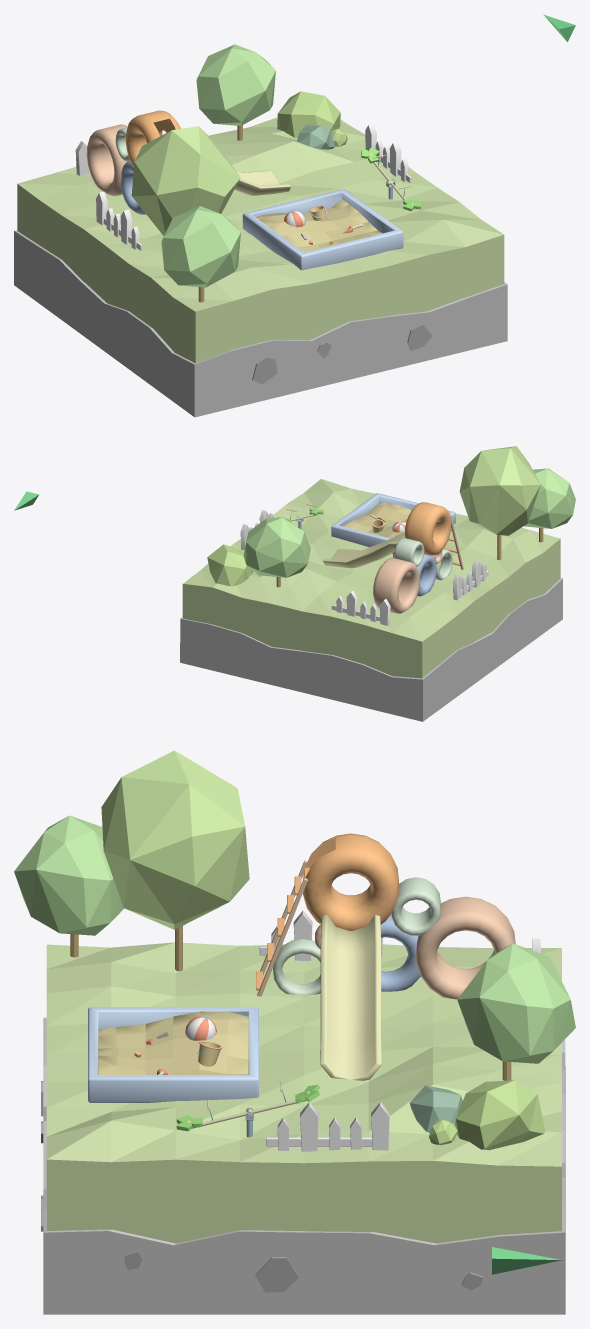
3 views of the same model, one above another, from view 1: azimuth 30°, elevation 25°; view 2: azimuth 150°, elevation 25°; view 3: azimuth 270°, elevation 25° (orthographic). The views are drawn at different scales.
Visible parts, largest first — view 1: Sand_1, Rock_1_0, object 7, object 11, object 9, object 6, object 13, object 17, object 8, object 16, object 12, Rock_2 (+1 smaller); view 2: Sand_1, Rock_1_0, object 11, object 7, object 13, object 6, object 9, object 8, object 17, object 15, object 16; view 3: Sand_1, Rock_1_0, object 11, object 7, object 13, object 6, object 9, object 17, object 8, object 12, Rock_2, object 10 (+2 smaller).
Boxes of the visible parts, <box> form: Sand_1: <box>17,117,504,363</box>; Rock_1_0: <box>14,230,507,417</box>; object 7: <box>131,126,240,235</box>; object 11: <box>86,110,290,214</box>; object 9: <box>242,189,403,270</box>; object 6: <box>161,206,240,302</box>; object 13: <box>196,44,275,140</box>; object 17: <box>256,199,382,252</box>; object 8: <box>277,91,347,149</box>; object 16: <box>96,191,142,250</box>; object 12: <box>365,123,411,182</box>; Rock_2: <box>252,324,432,384</box>; Sand_1: <box>182,479,560,678</box>; Rock_1_0: <box>180,578,562,721</box>; object 11: <box>323,502,463,613</box>; object 7: <box>459,446,540,559</box>; object 13: <box>243,517,310,587</box>; object 6: <box>524,468,575,542</box>; object 9: <box>331,493,455,553</box>; object 8: <box>207,544,253,586</box>; object 17: <box>344,502,411,538</box>; object 15: <box>331,590,390,625</box>; object 16: <box>453,560,488,600</box>; Sand_1: <box>46,942,561,1243</box>; Rock_1_0: <box>43,1017,565,1314</box>; object 11: <box>256,833,515,1080</box>; object 7: <box>101,750,249,971</box>; object 13: <box>457,943,575,1080</box>; object 6: <box>14,815,123,957</box>; object 9: <box>88,1007,258,1102</box>; object 17: <box>98,1011,248,1074</box>; object 8: <box>409,1080,545,1150</box>; object 12: <box>266,1102,389,1151</box>; Rock_2: <box>41,1081,483,1292</box>; object 10: <box>176,1082,319,1137</box>.
Size of what is drawn, in the model's own units: 3.62 by 1.54 by 2.18.
